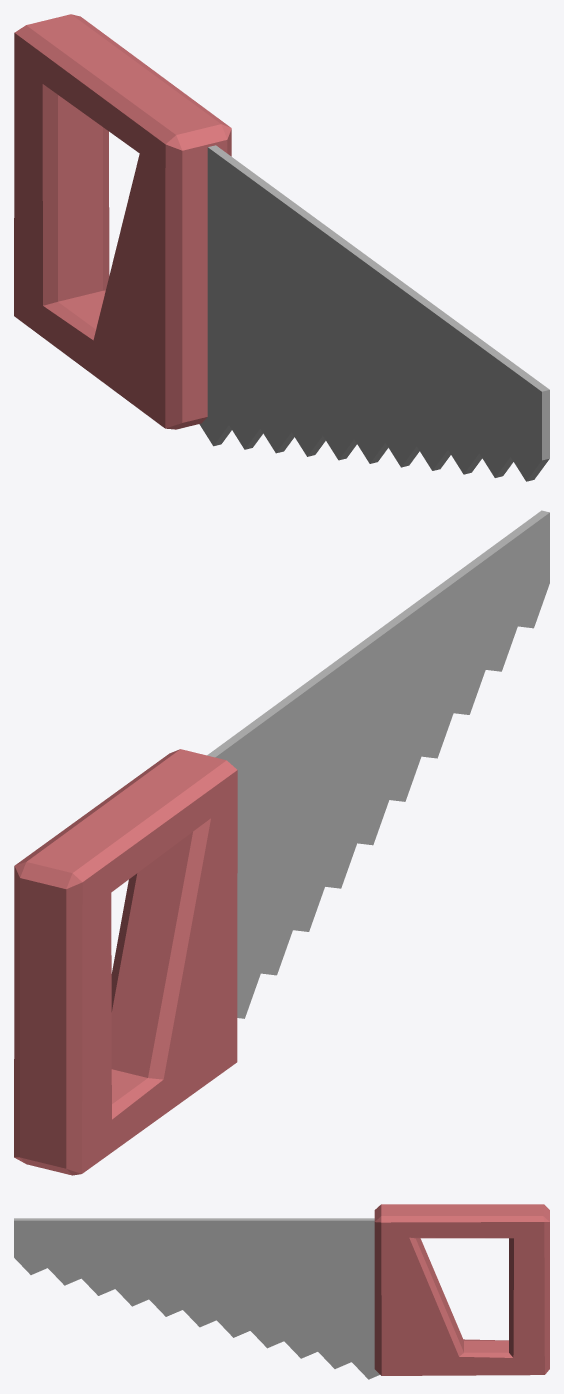
File: Saw.glb
3 views of the same model, one above another, from view 1: azimuth 30°, elevation 25°; view 2: azimuth 150°, elevation 25°; view 3: azimuth 270°, elevation 25° (orthographic). The views are drawn at different scales.
Visible parts, largest first — view 1: Saw; view 2: Saw; view 3: Saw.
Part boxes in pixels (x1=…): Saw: x1=14, y1=14, x2=549, y2=481; Saw: x1=14, y1=510, x2=549, y2=1175; Saw: x1=14, y1=1204, x2=549, y2=1379.
Size of the model in its own units: 8.08 by 35.97 by 105.
